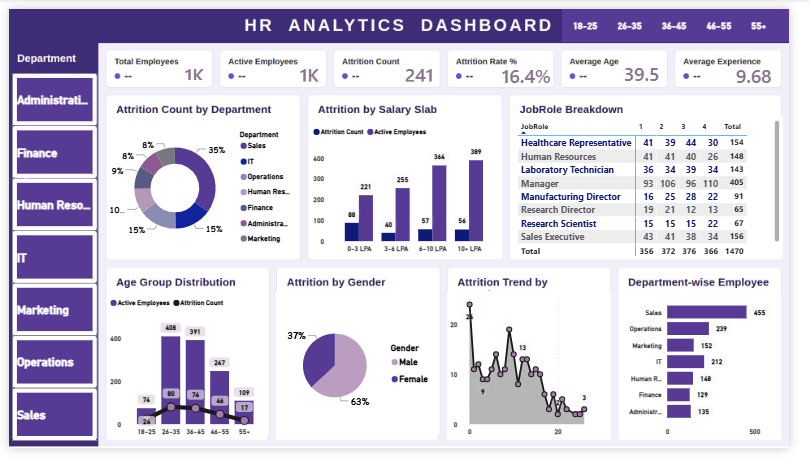

The dashboard page shown, as its layout file describes it:
{"tool":"powerbi","page":{"name":"dashboard","canvas":[1280,720],"ordinal":0},"visuals":[{"type":"cardVisual","fields":{"Data":["HR_Data.Total Employees"]},"box":[259,78.7,114.8,55.7],"z":0},{"type":"cardVisual","fields":{"Data":["HR_Data.Active Employees"]},"box":[447.5,77,104.9,59],"z":1000},{"type":"cardVisual","fields":{"Data":["HR_Data.Attrition Count"]},"box":[619.7,77,131.1,59],"z":2000},{"type":"cardVisual","fields":{"Data":["HR_Data.Attrition Rate %"]},"box":[778.7,77,149.2,62.3],"z":3000},{"type":"cardVisual","fields":{"Data":["HR_Data.Average Age"]},"box":[978.7,73.8,132.8,62.3],"z":4000},{"type":"cardVisual","fields":{"Data":["HR_Data.Average Experience"]},"box":[1162,73.8,118,67.2],"z":5000},{"type":"advancedSlicerVisual","fields":{"Values":["HR_Data.Department"]},"box":[0,100,150.8,619.7],"z":6000},{"type":"advancedSlicerVisual","fields":{"Values":["HR_Data.AgeGroup"]},"box":[906.6,0,373.8,54.1],"z":7000},{"type":"donutChart","fields":{"Category":["HR_Data.Department"],"Y":["HR_Data.Attrition Count"]},"box":[160.7,177,314.8,232.8],"z":8000},{"type":"lineClusteredColumnComboChart","fields":{"Y":["HR_Data.Active Employees"],"Y2":["HR_Data.Attrition Count"],"Category":["HR_Data.AgeGroup"]},"box":[160.7,462.3,262.3,244.3],"z":9000},{"type":"pieChart","fields":{"Category":["HR_Data.Gender"],"Y":["HR_Data.Attrition Count"]},"box":[437.7,462.3,263.9,244.3],"z":10000},{"type":"lineChart","fields":{"Category":["HR_Data.TotalExperienceYears"],"Y":["HR_Data.Attrition Count"]},"box":[718,462.3,268.9,244.3],"z":11000},{"type":"barChart","fields":{"Category":["HR_Data.Department"],"Y":["HR_Data.Total Employees"]},"box":[1000,462.3,265.6,244.3],"z":12000},{"type":"pivotTable","fields":{"Rows":["HR_Data.JobRole"],"Columns":["HR_Data.PerformanceRating","HR_Data.JobSatisfaction"],"Values":["HR_Data.Total Employees"]},"box":[829.5,177,439.3,232.8],"z":13000},{"type":"clusteredColumnChart","fields":{"Category":["HR_Data.SalarySlab"],"Y":["HR_Data.Attrition Count","HR_Data.Active Employees"]},"box":[493.4,182,314.8,224.6],"z":14000}]}

Visuals, with their boxes in screenshot pixels (x1, y1, x2, y2), scaled from the page's 1280x720 canvas onto the 809x460 screenshot:
cardVisual - HR_Data.Total Employees: x1=164 y1=50 x2=236 y2=86
cardVisual - HR_Data.Active Employees: x1=283 y1=49 x2=349 y2=87
cardVisual - HR_Data.Attrition Count: x1=392 y1=49 x2=475 y2=87
cardVisual - HR_Data.Attrition Rate %: x1=492 y1=49 x2=586 y2=89
cardVisual - HR_Data.Average Age: x1=619 y1=47 x2=703 y2=87
cardVisual - HR_Data.Average Experience: x1=734 y1=47 x2=808 y2=90
advancedSlicerVisual - HR_Data.Department: x1=0 y1=64 x2=95 y2=459
advancedSlicerVisual - HR_Data.AgeGroup: x1=573 y1=0 x2=808 y2=35
donutChart - HR_Data.Department x HR_Data.Attrition Count: x1=102 y1=113 x2=301 y2=262
lineClusteredColumnComboChart - HR_Data.Active Employees x HR_Data.Attrition Count: x1=102 y1=295 x2=267 y2=451
pieChart - HR_Data.Gender x HR_Data.Attrition Count: x1=277 y1=295 x2=443 y2=451
lineChart - HR_Data.TotalExperienceYears x HR_Data.Attrition Count: x1=454 y1=295 x2=624 y2=451
barChart - HR_Data.Department x HR_Data.Total Employees: x1=632 y1=295 x2=800 y2=451
pivotTable - HR_Data.JobRole x HR_Data.PerformanceRating: x1=524 y1=113 x2=802 y2=262
clusteredColumnChart - HR_Data.SalarySlab x HR_Data.Attrition Count: x1=312 y1=116 x2=511 y2=260
